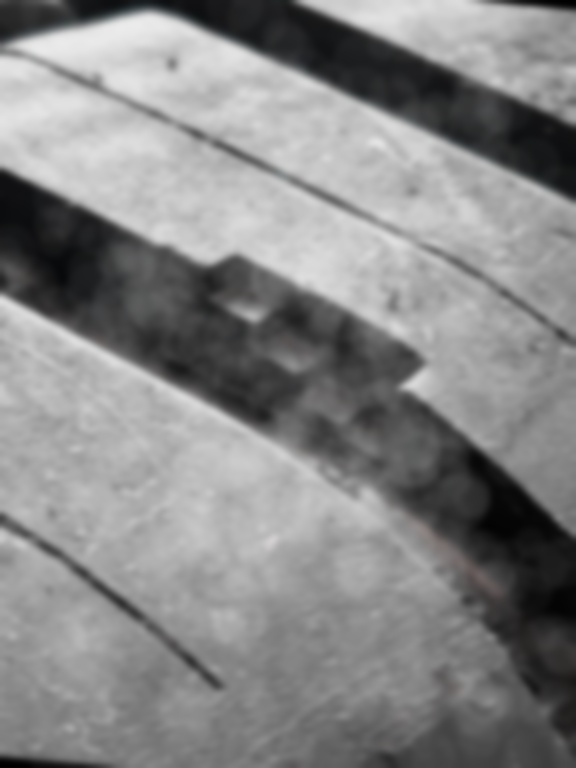temoin:95: (145, 225, 446, 503)
